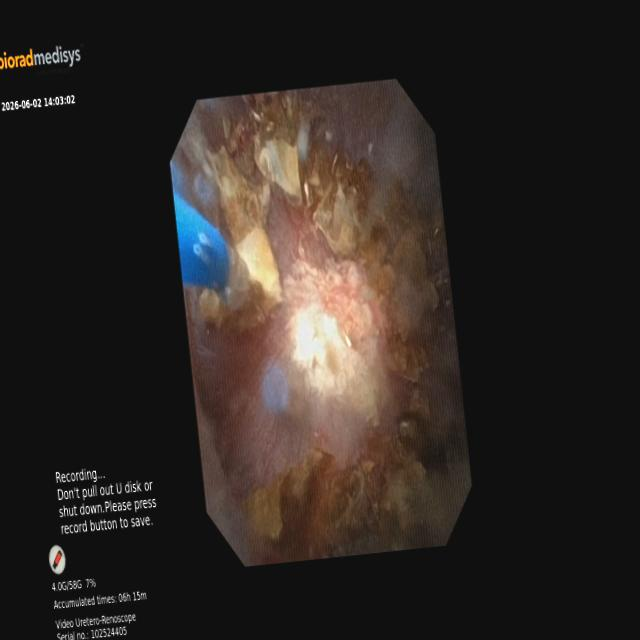laser-fibre: (220, 247, 253, 310)
laser_dot: (294, 309, 324, 367)
stone-new: (244, 442, 424, 559), (198, 147, 282, 330), (367, 228, 438, 375), (252, 97, 303, 204), (312, 160, 362, 256)
